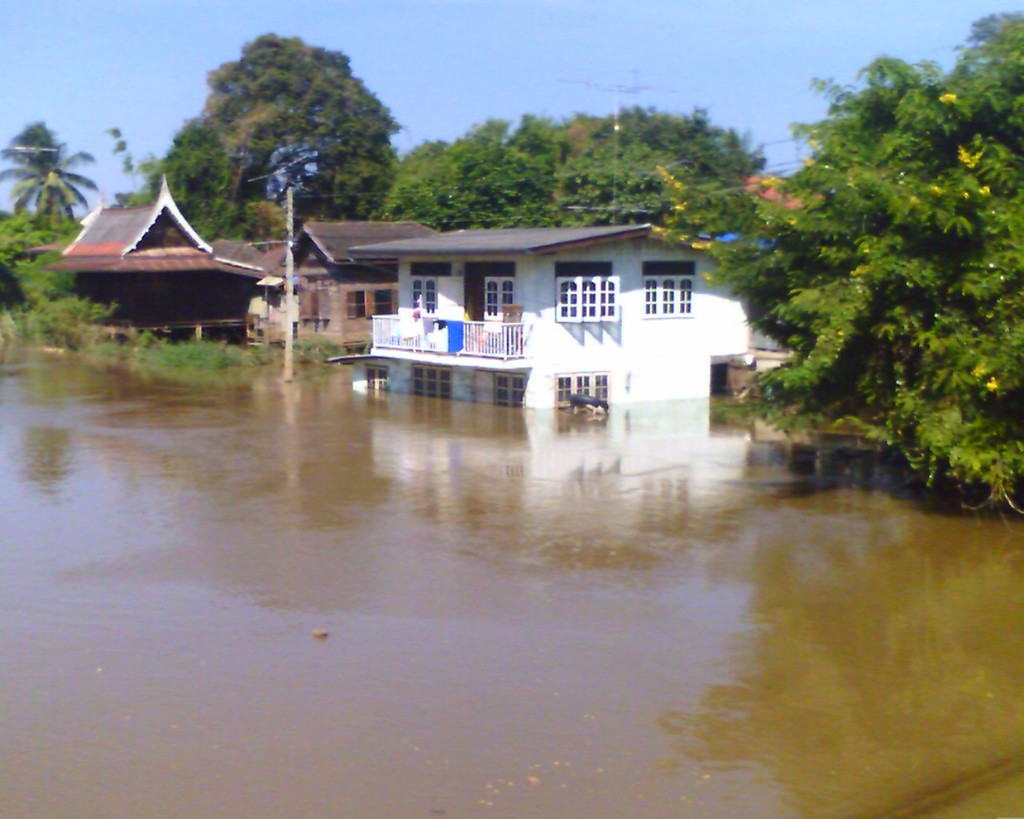Tree: (0, 7, 1024, 515)
